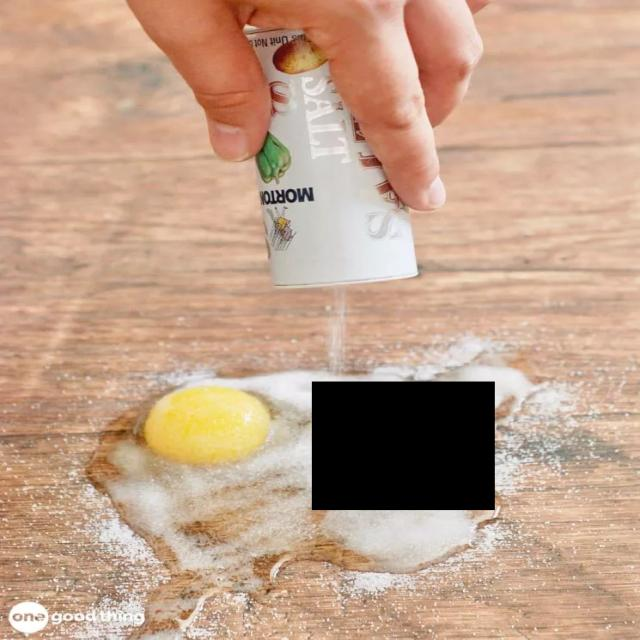Salt: (313, 382, 495, 511)
